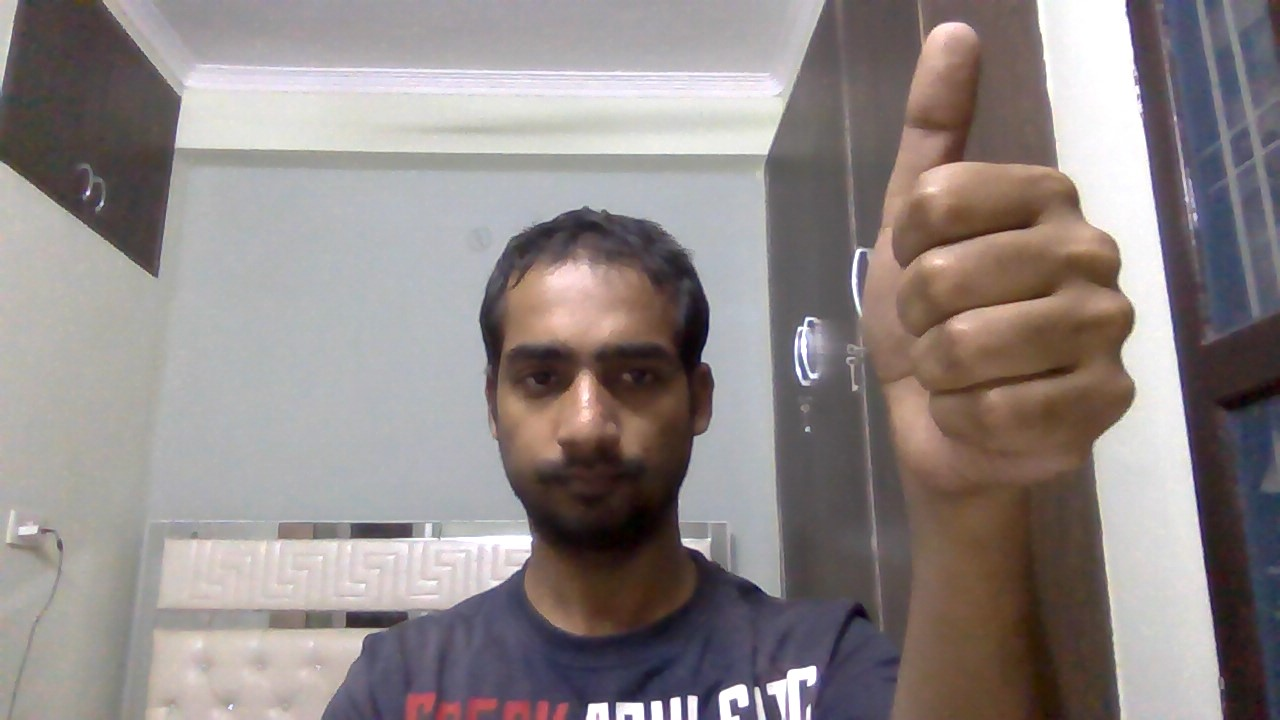Save: (845, 14, 1148, 518)
